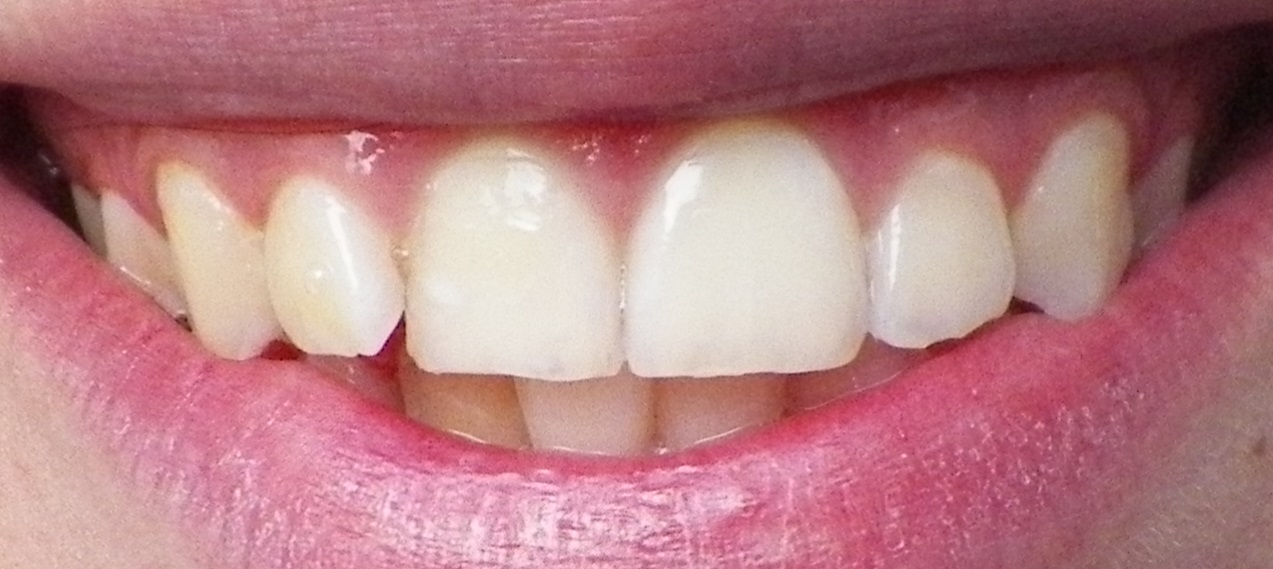boca: (44, 110, 1234, 480)
